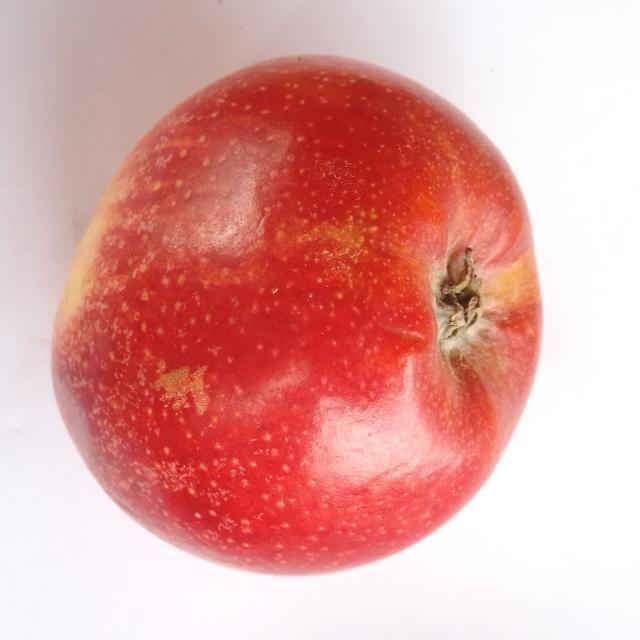Fresh Apple: (74, 70, 558, 568)
